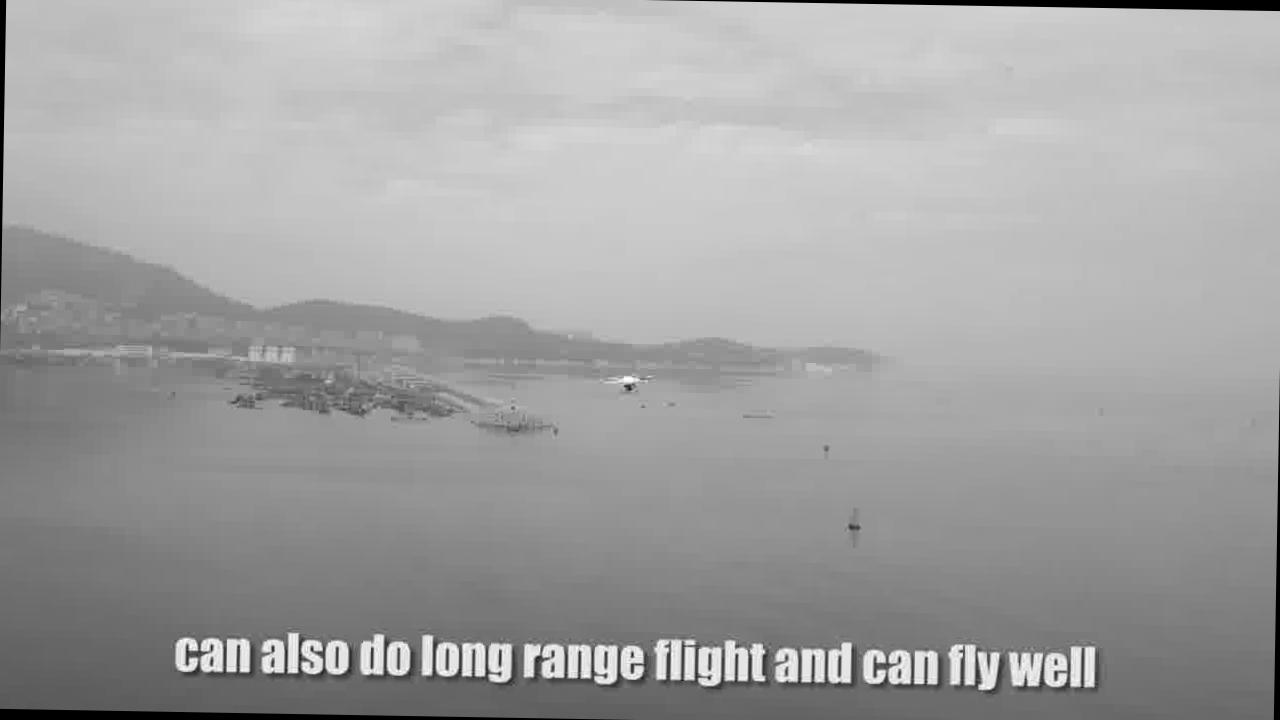drone: (596, 367, 654, 397)
